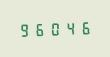four: (63, 19, 77, 36)
nine: (18, 21, 32, 37)
six: (33, 20, 47, 37), (78, 19, 92, 35)
zero: (48, 20, 62, 36)
